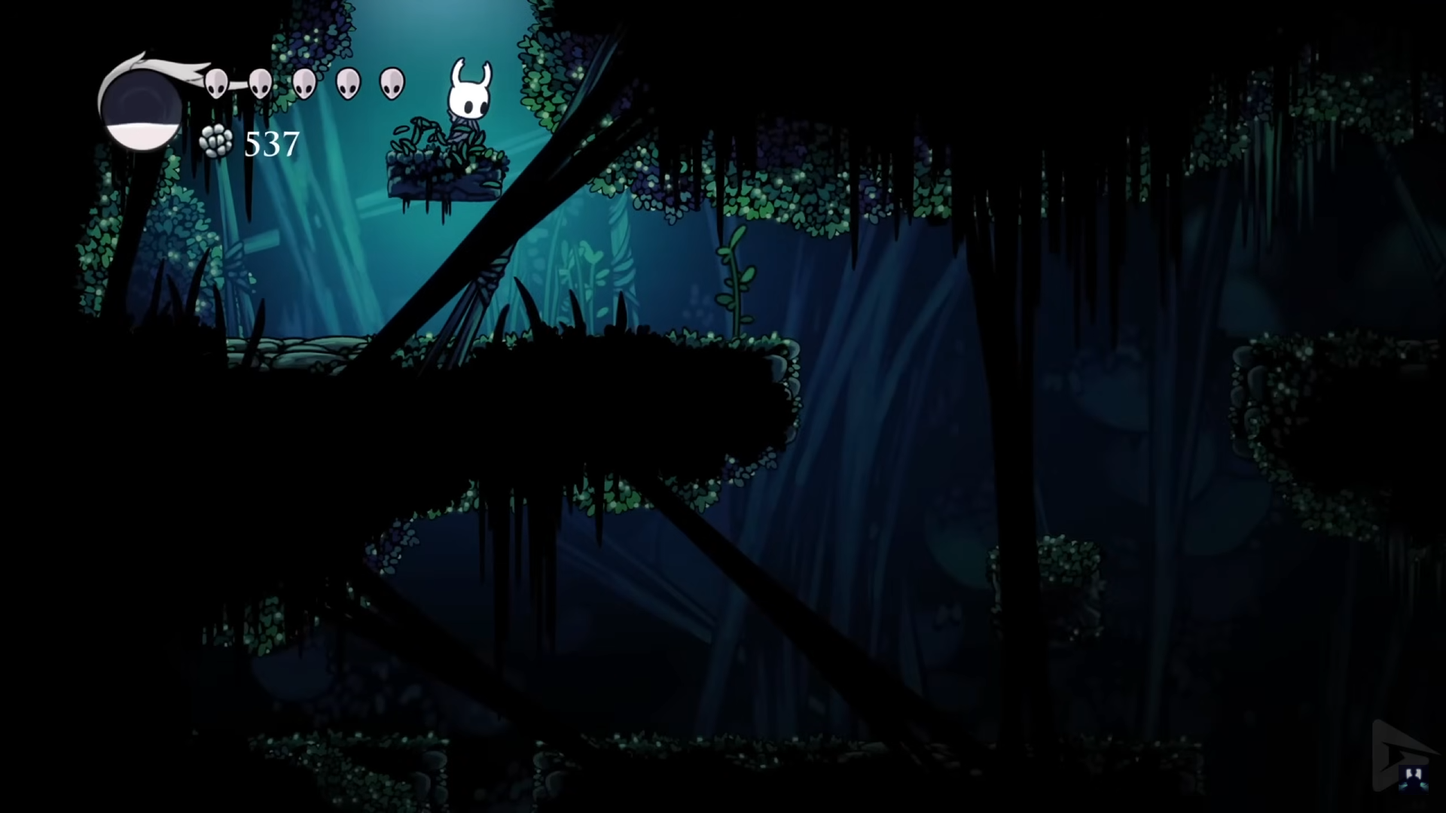HK: (438, 56, 498, 149)
